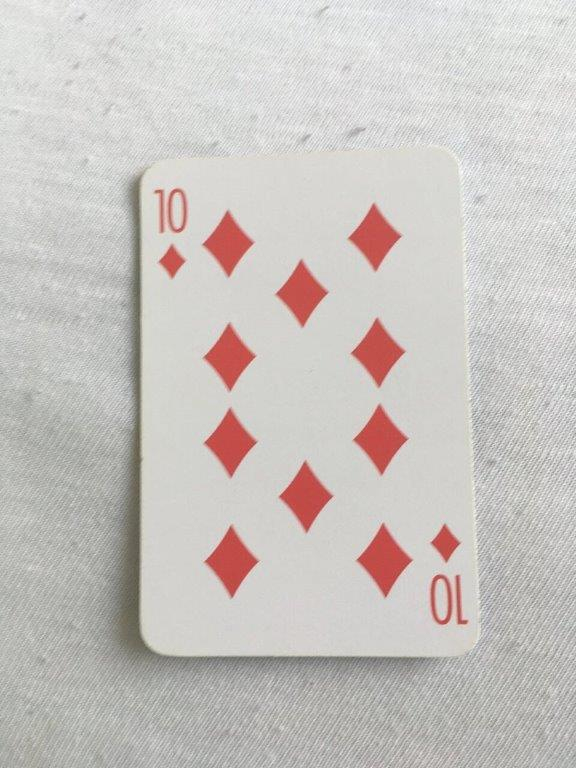10D: (134, 142, 485, 662)
